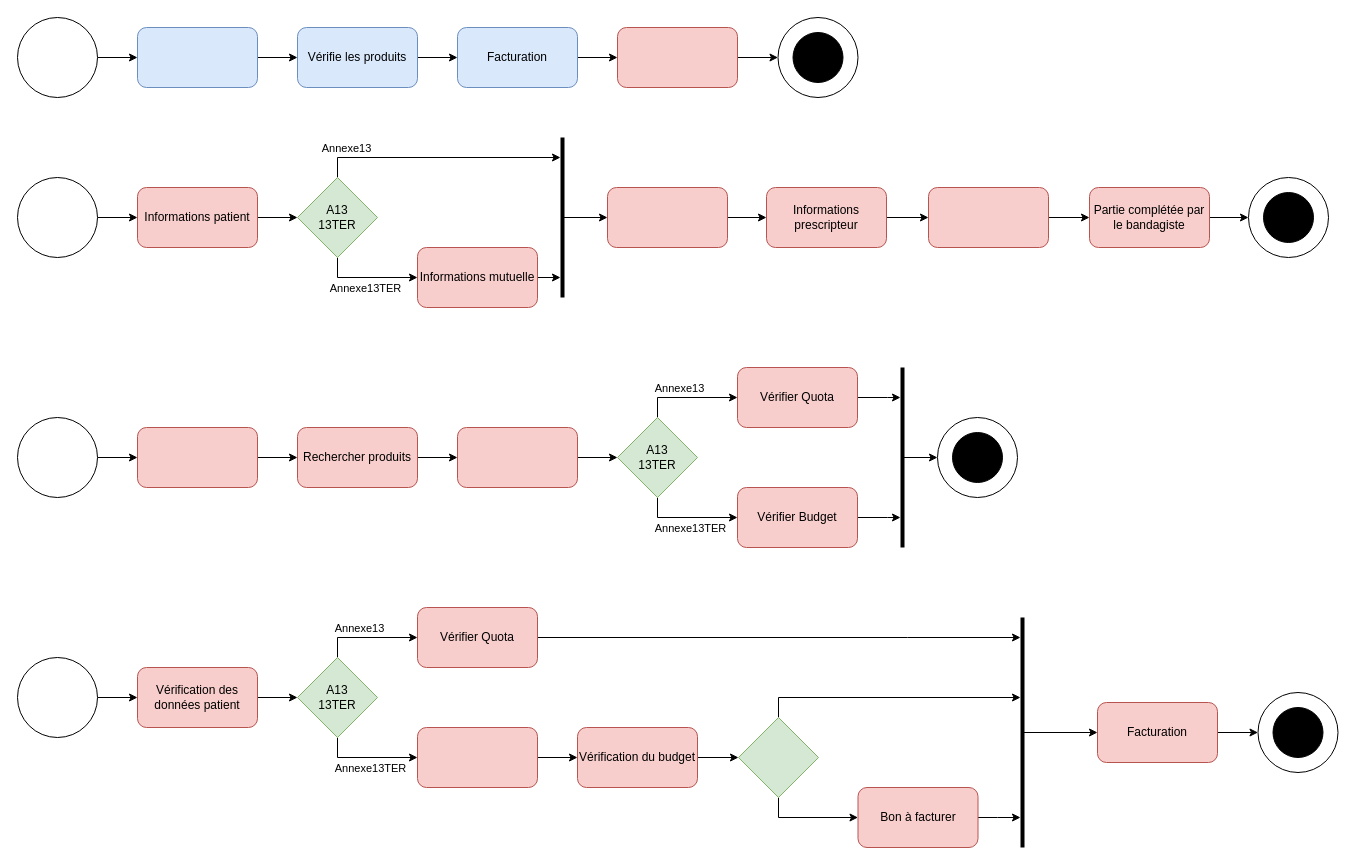
Image size: 1356x867. Some labels were removed from this diagram. The box of each missing label's shape, as (x1, y1, x2, y2) in pixels:
A93 ?: (738, 716, 818, 798)
Aller sur INAMI: (136, 426, 258, 488)
Dates: (606, 186, 728, 248)
Inscription du N° de facture sur Annexe: (616, 26, 738, 88)
Partie complétée par le patient: (928, 186, 1048, 248)
Vérification mutuelle: (416, 726, 538, 788)
Vérifie l'annexe: (136, 26, 258, 88)
Vérifier produits: (456, 426, 578, 488)
